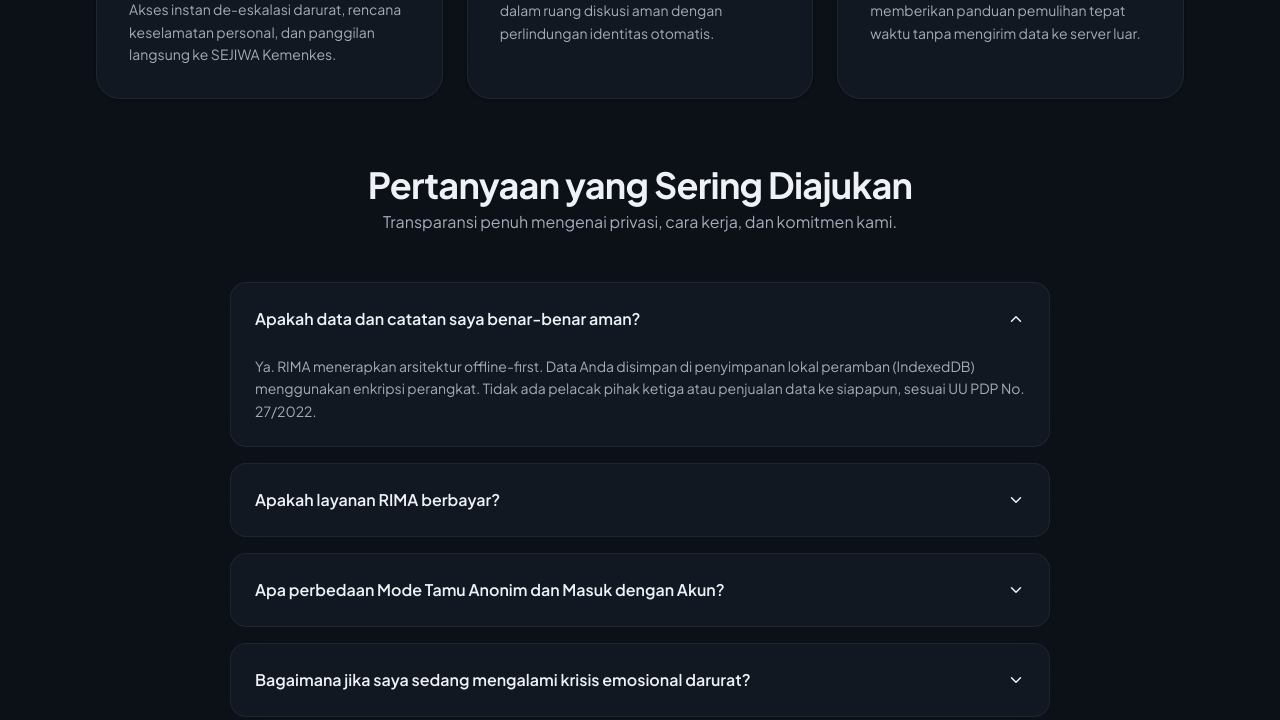
Test: Landing Page — Modern Minimalist Public Web Access › FAQ Accordion & Expansion Interactivity › toggles FAQ item collapse when clicking the currently active question
(page scrolled)
// Click to collapse
Click the button "Apakah data dan catatan saya benar-benar aman?" at (640, 319), box [231,283,1049,355]
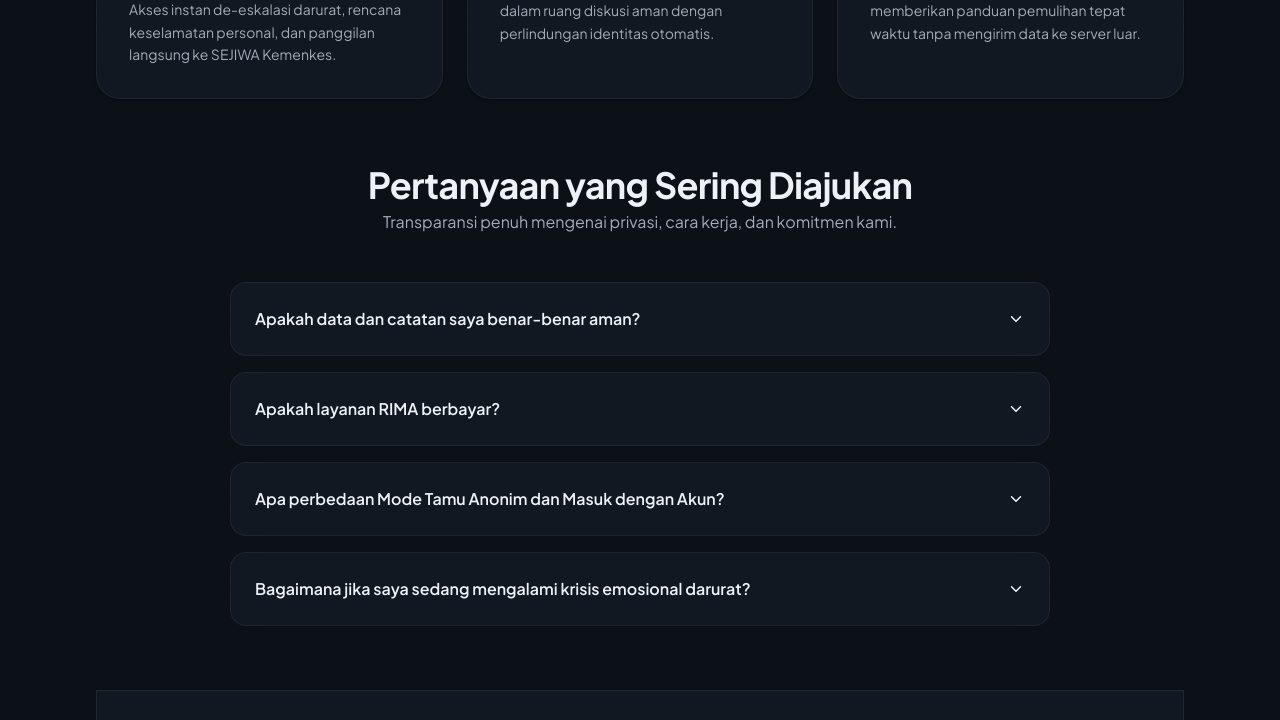
Check: the button "Apakah data dan catatan saya benar-benar aman?" is collapsed
Check: the element with id "faq-answer-1" is gone
// Click to expand again
Click the button "Apakah data dan catatan saya benar-benar aman?" at (640, 319), box [231,283,1049,355]
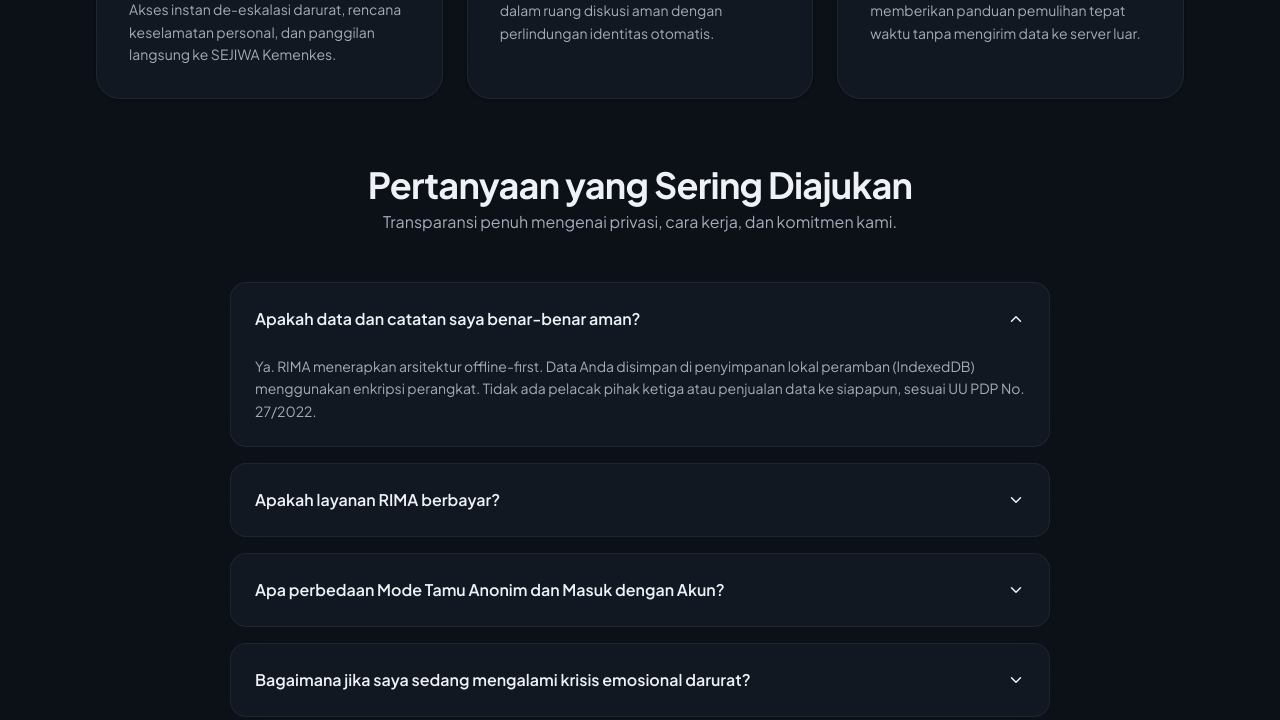
Check: the button "Apakah data dan catatan saya benar-benar aman?" is expanded, box [231,283,1049,355]
Check: the element with id "faq-answer-1" is shown, box [231,355,1049,446]
